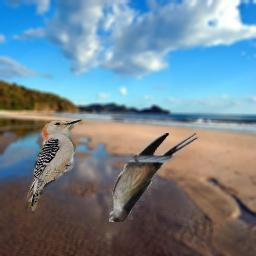Swallow: (109, 133, 200, 222)
Woodpecker: (24, 115, 83, 211)
